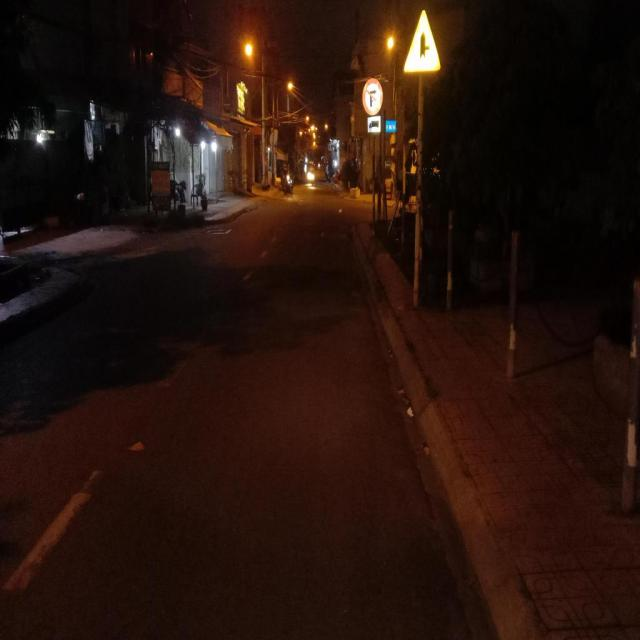cam_re_phai: (362, 77, 384, 116)
giao_nhau_voi_duong_khong_uu_tien: (402, 8, 441, 72)
khac: (367, 116, 382, 133)
